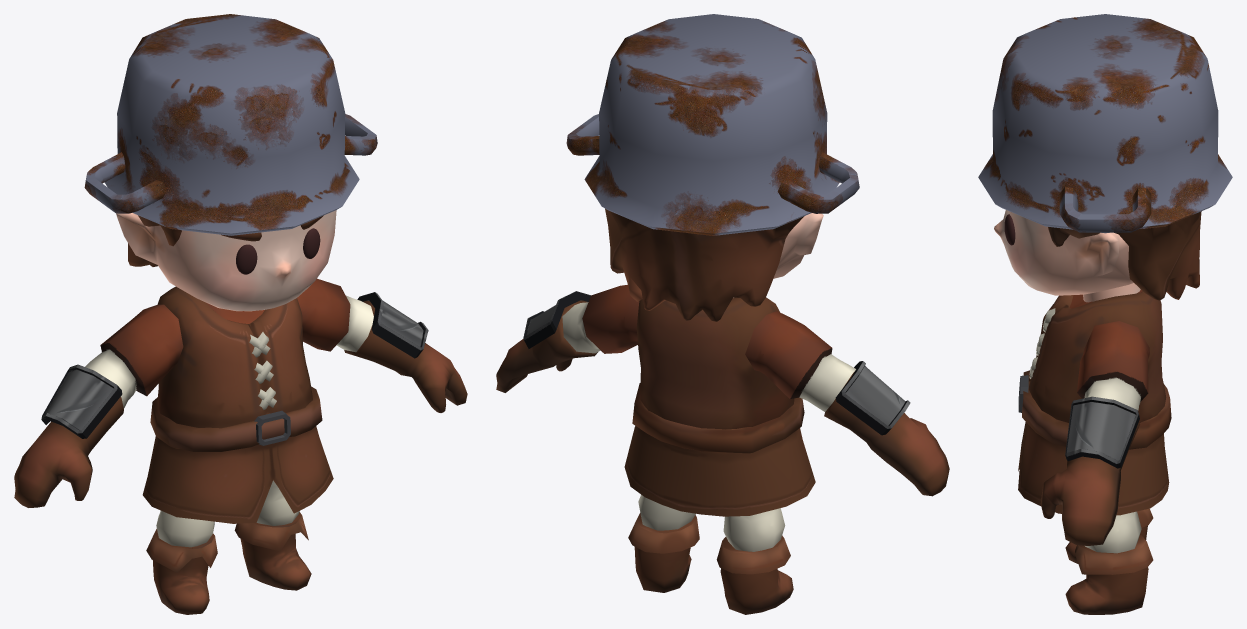
Rendered from main_F002.fbx.
3 views of the same model, side by side, from view 1: azimuth 30°, elevation 25°; view 2: azimuth 150°, elevation 25°; view 3: azimuth 270°, elevation 25° (orthographic).
Parts seen in each view (by area): view 1: main, hair_pot; view 2: main, hair_pot; view 3: hair_pot, main.
Part boxes in pixels (left/top/right/bottom): main: left=14, top=210, right=467, bottom=614; hair_pot: left=84, top=14, right=377, bottom=266; main: left=496, top=213, right=949, bottom=614; hair_pot: left=566, top=14, right=859, bottom=321; hair_pot: left=978, top=14, right=1232, bottom=300; main: left=994, top=210, right=1171, bottom=614.
Bounding box in the file's own units: 168 × 195 × 84.93.
6 materials, 6 textured.
